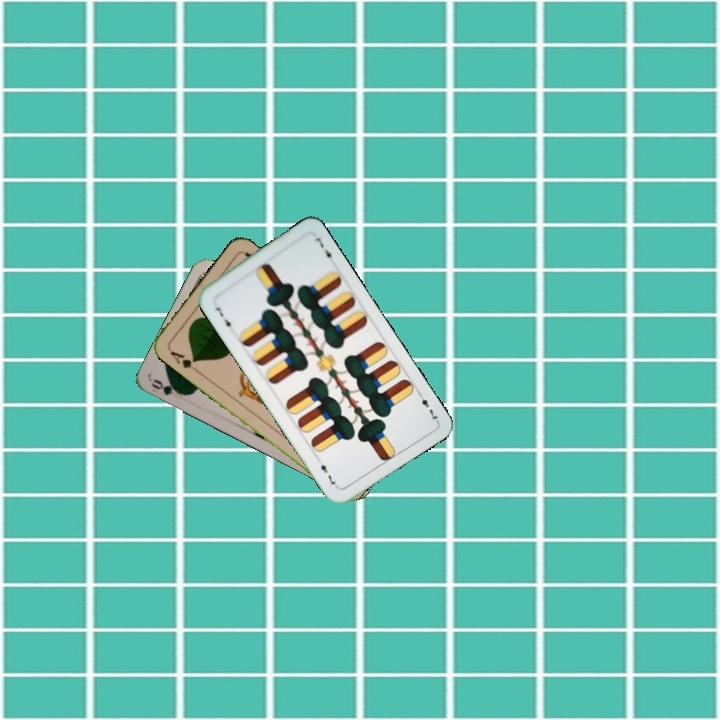E7: (414, 387, 440, 424), (211, 302, 234, 334)
GA: (165, 344, 200, 374)
GO: (148, 375, 189, 398)
